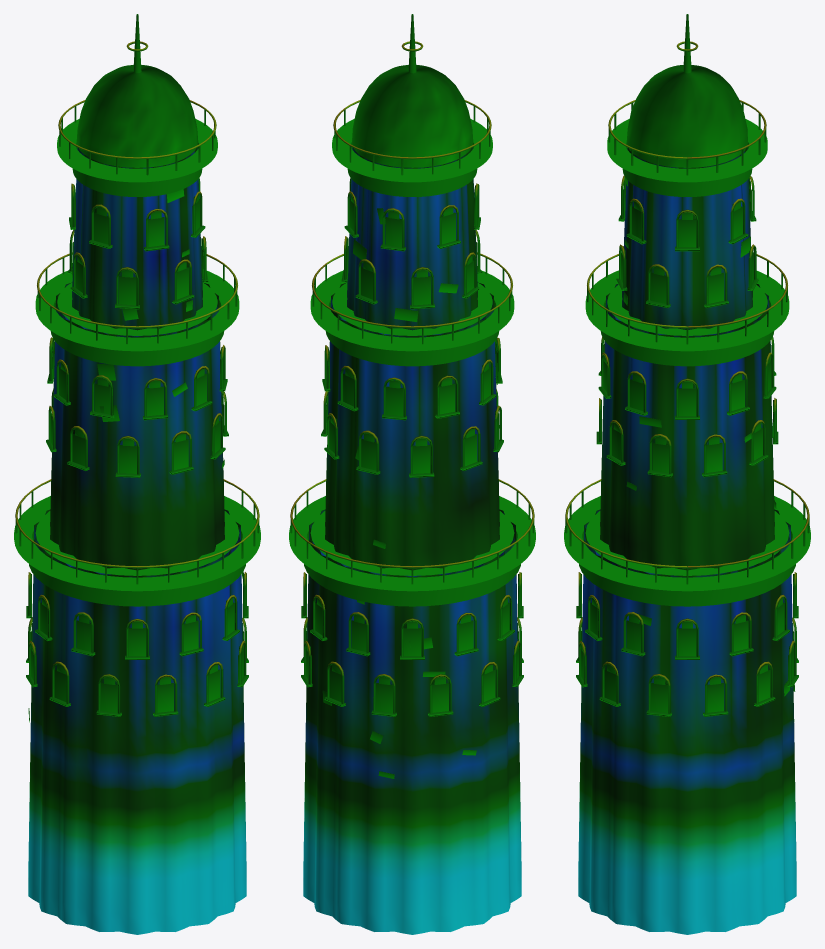
The model's file is iskarra_tower_stepped.glb.
3 views of the same model, side by side, from view 1: azimuth 30°, elevation 25°; view 2: azimuth 150°, elevation 25°; view 3: azimuth 270°, elevation 25° (orthographic).
Parts seen in each view (by area): view 1: iskarra_tower_stepped; view 2: iskarra_tower_stepped; view 3: iskarra_tower_stepped.
Boxes of the visible parts, box(x1,y1,x2,y2) form: iskarra_tower_stepped: box(14, 14, 260, 934); iskarra_tower_stepped: box(289, 14, 535, 934); iskarra_tower_stepped: box(564, 14, 810, 934).
Size of what is drawn, in the model's own units: 12.6 by 49.2 by 12.6.
